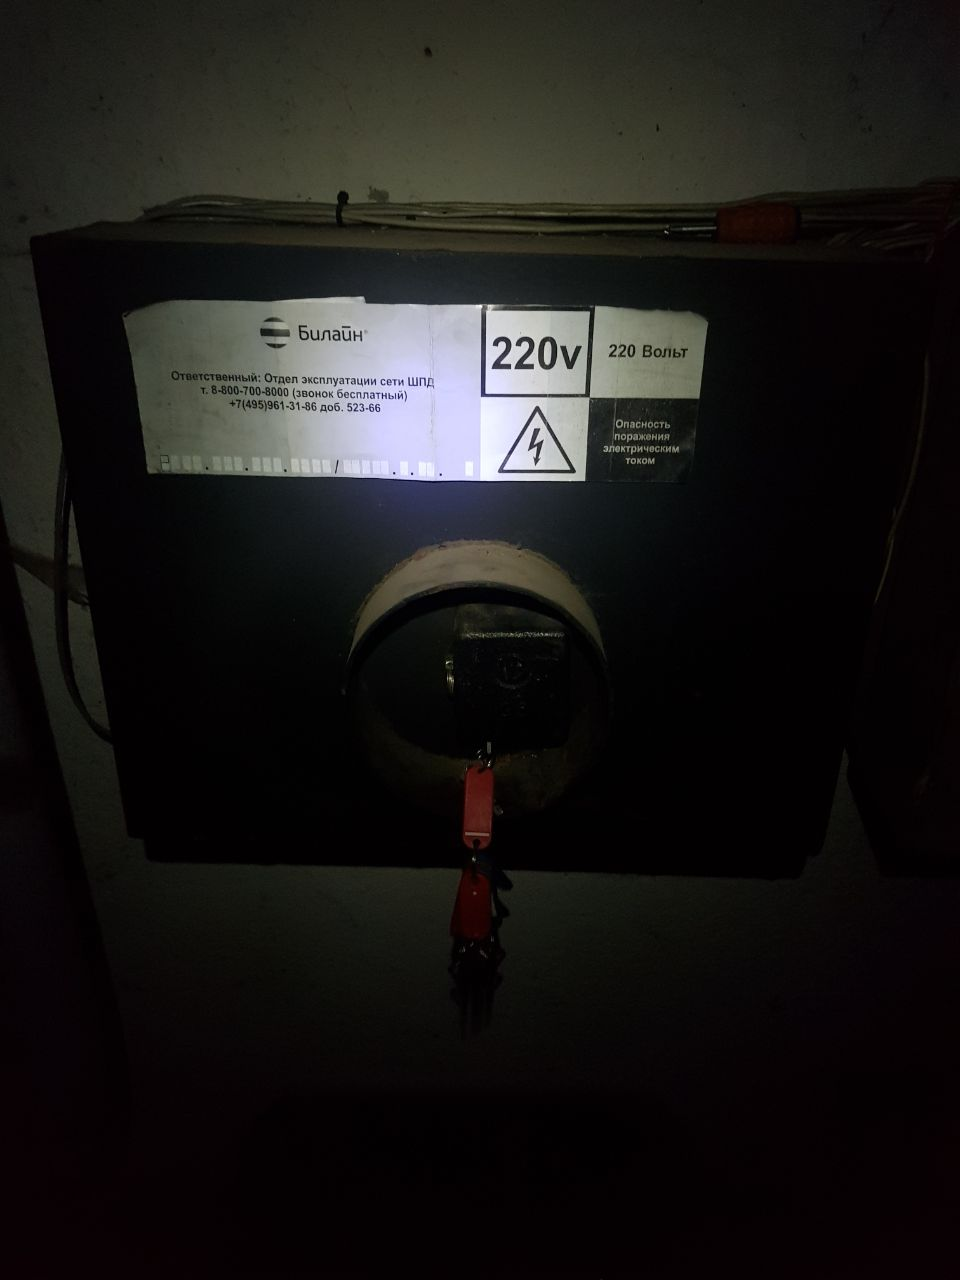shta-3: (24, 193, 923, 882)
